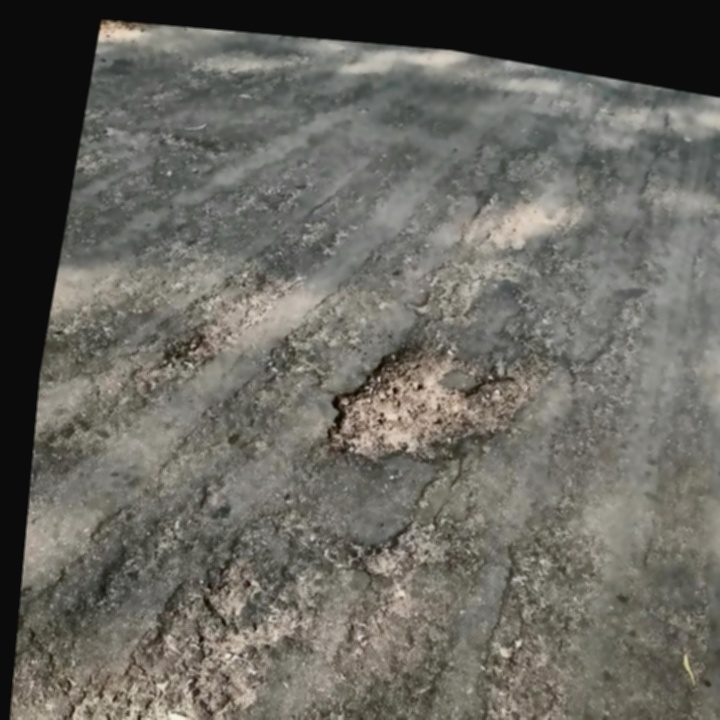pothole: (315, 322, 551, 494)
